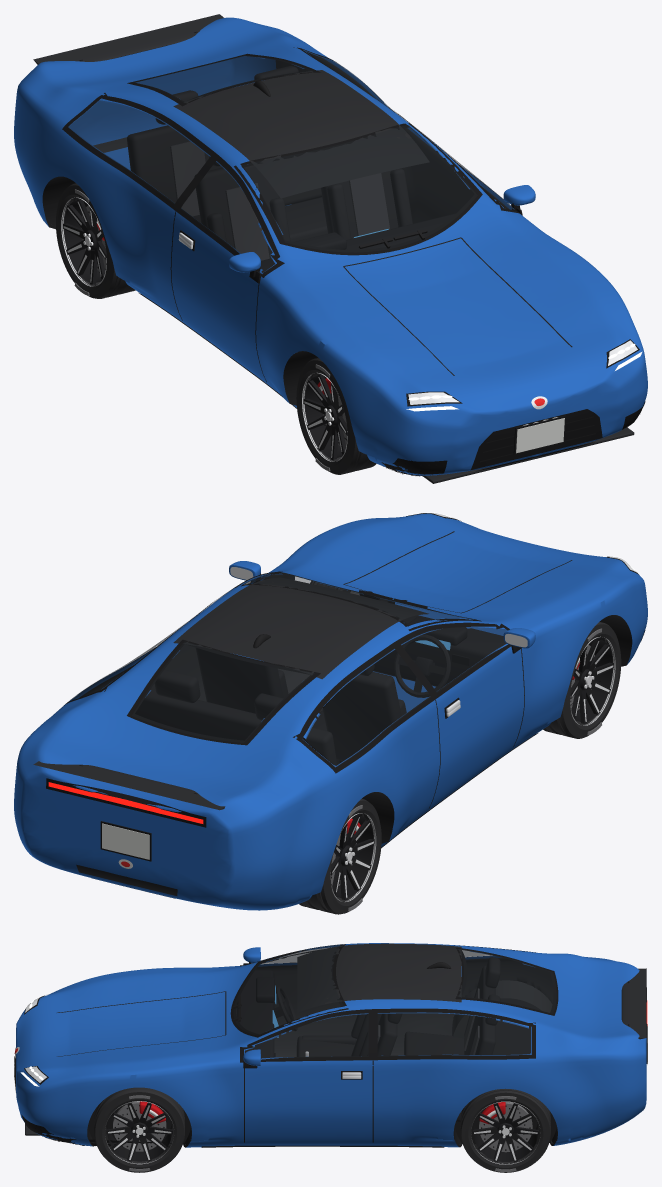
The model's file is rsetrongt.glb.
3 views of the same model, one above another, from view 1: azimuth 30°, elevation 25°; view 2: azimuth 150°, elevation 25°; view 3: azimuth 270°, elevation 25° (orthographic). The views are drawn at different scales.
Parts seen in each view (by area): view 1: Body, Wheel_FR, Wheel_RR; view 2: Body, Wheel_FR, Wheel_RR; view 3: Body, Wheel_FL, Wheel_RL.
Part boxes in pixels (bbox=[...]): Body: bbox=[14, 14, 647, 483]; Wheel_FR: bbox=[296, 358, 376, 474]; Wheel_RR: bbox=[56, 183, 135, 298]; Body: bbox=[14, 512, 647, 910]; Wheel_FR: bbox=[543, 622, 621, 738]; Wheel_RR: bbox=[299, 798, 381, 914]; Body: bbox=[14, 943, 647, 1147]; Wheel_FL: bbox=[94, 1087, 184, 1172]; Wheel_RL: bbox=[460, 1088, 550, 1172].
Size of the model in its own units: 2.1 by 1.42 by 5.02.
